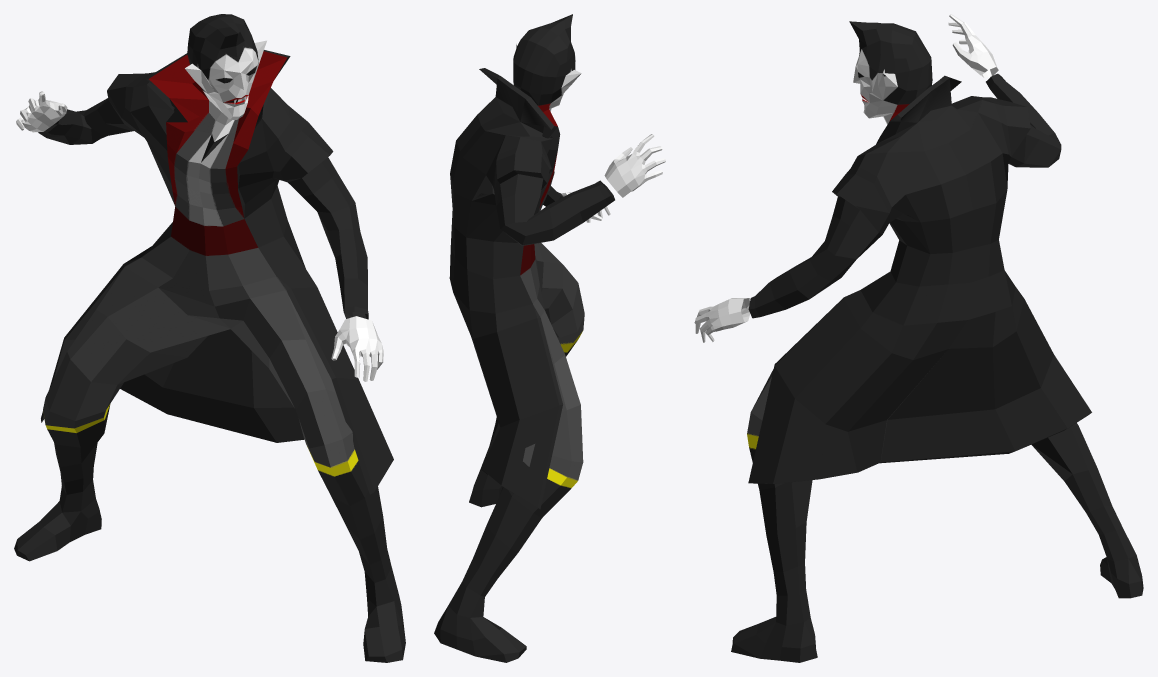
Rendered from VampireAttack(69).obj.
The picture shows the model from 3 angles, left to right: view 1: azimuth 30°, elevation 25°; view 2: azimuth 150°, elevation 25°; view 3: azimuth 270°, elevation 25°; orthographic projection. The views are drawn at different scales.
Visible parts, largest first — view 1: Plane002; view 2: Plane002; view 3: Plane002.
Boxes of the visible parts, left/top/right/bottom form: Plane002: left=14, top=14, right=405, bottom=662; Plane002: left=434, top=14, right=665, bottom=662; Plane002: left=694, top=14, right=1143, bottom=662.
Bounding box in the file's own units: 153 × 299 × 209.
